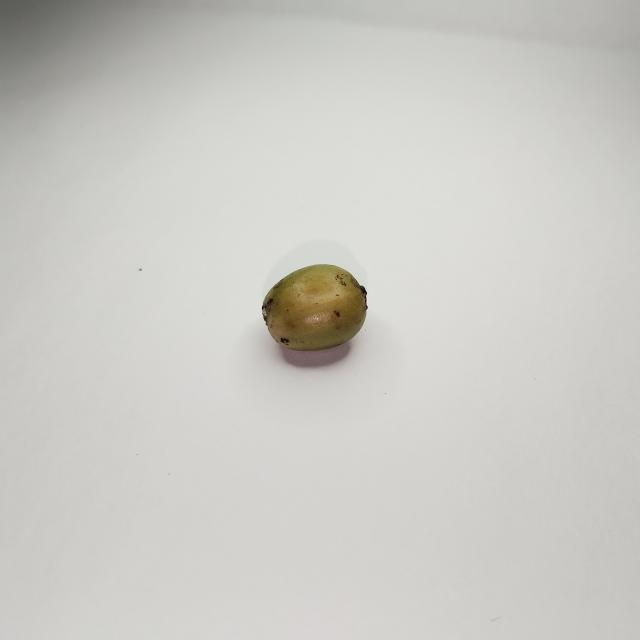Sano: (262, 264, 367, 351)
